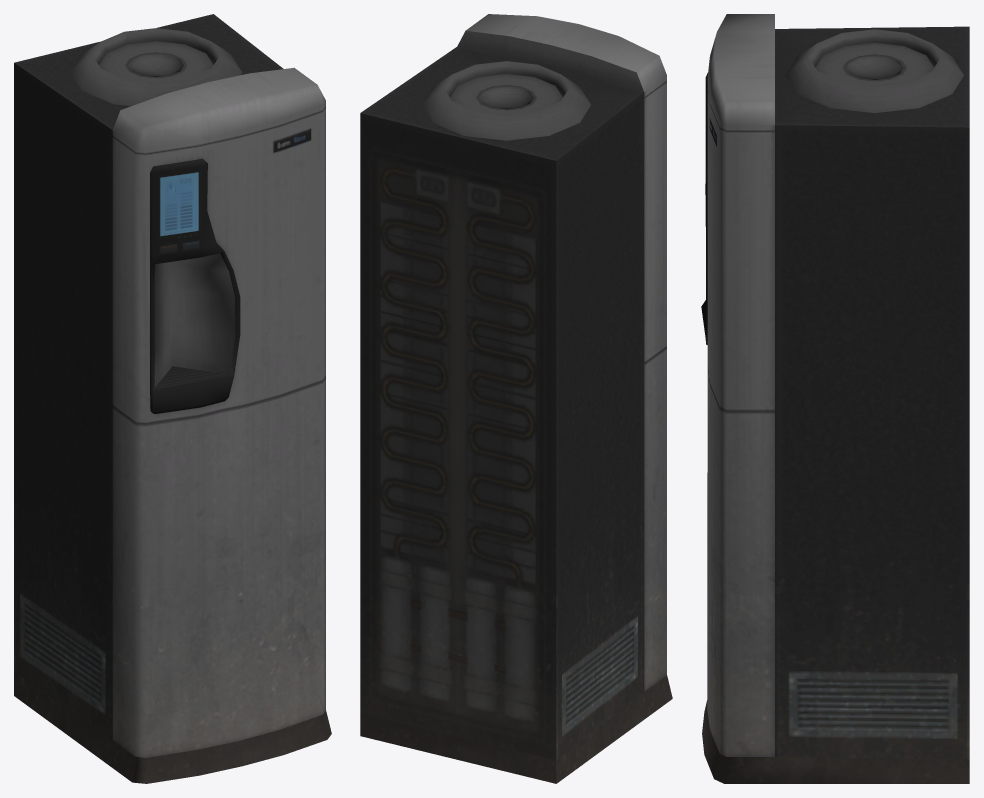
Rendered from p6_water_cooler_metal_lod1.glb.
3 views of the same model, side by side, from view 1: azimuth 30°, elevation 25°; view 2: azimuth 150°, elevation 25°; view 3: azimuth 270°, elevation 25° (orthographic). The views are drawn at different scales.
Parts seen in each view (by area): view 1: surf0; view 2: surf0; view 3: surf0.
Part boxes in pixels (box(x1,y1,x2,y2)): surf0: box(14, 14, 331, 783); surf0: box(360, 14, 672, 783); surf0: box(701, 14, 969, 783).
Bounding box in the file's own units: 15.17 × 47.82 × 17.05.
